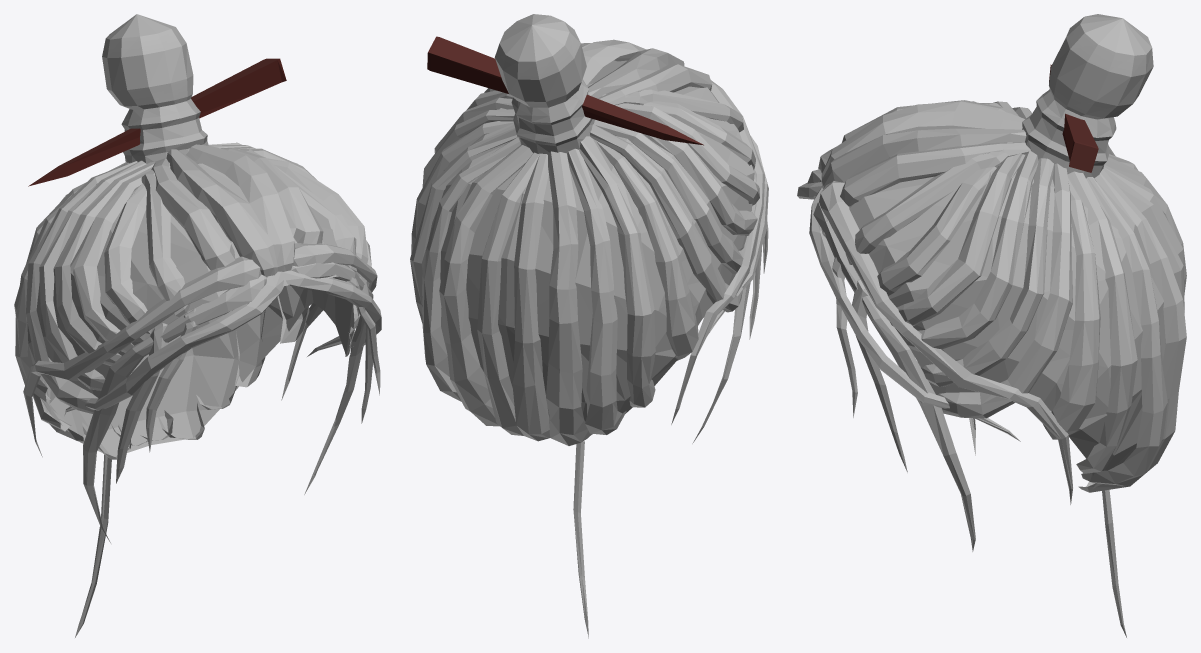
File: hairTiedWithStickFemale.glb
The picture shows the model from 3 angles, left to right: view 1: azimuth 30°, elevation 25°; view 2: azimuth 150°, elevation 25°; view 3: azimuth 270°, elevation 25°; orthographic projection. The views are drawn at different scales.
Visible parts, largest first — view 1: hairTiedWithStickFemale; view 2: hairTiedWithStickFemale; view 3: hairTiedWithStickFemale.
Boxes of the visible parts, <box> form: hairTiedWithStickFemale: <box>14,14,381,637</box>; hairTiedWithStickFemale: <box>410,14,768,638</box>; hairTiedWithStickFemale: <box>797,14,1186,637</box>.
Size of the model in its own units: 0.2292 by 0.4332 by 0.2347.
